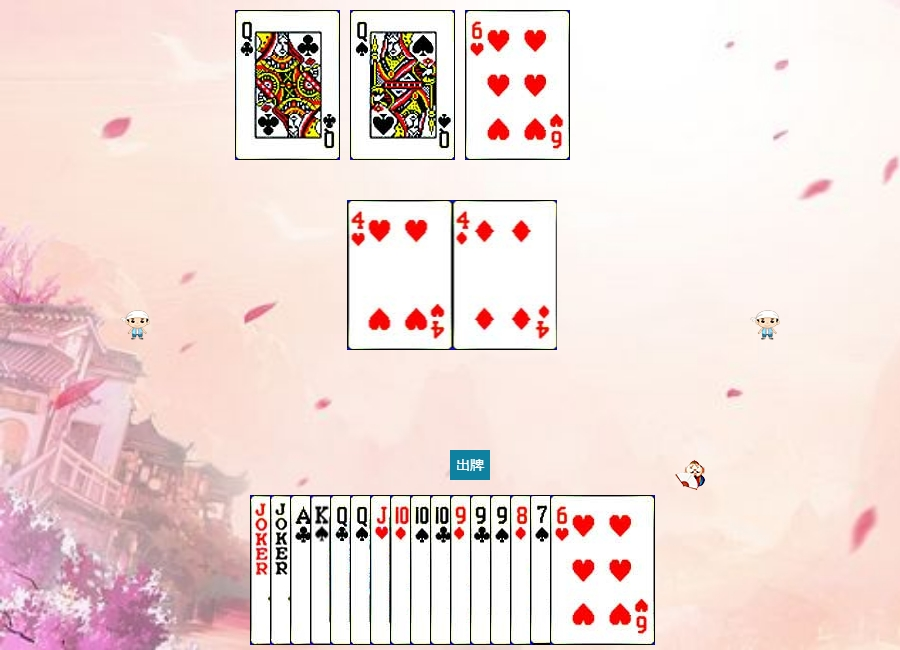10~1: (390, 495, 495, 645)
10~2: (430, 495, 535, 645)
10~4: (410, 495, 515, 645)
11~3: (370, 495, 475, 645)
12~2: (235, 10, 340, 160), (330, 495, 435, 645)
12~4: (350, 10, 455, 160), (350, 495, 455, 645)
13~4: (310, 495, 415, 645)
14~2: (290, 495, 395, 645)
17~3: (270, 495, 375, 645)
18~4: (250, 495, 355, 645)
4~1: (453, 200, 558, 350)
4~3: (348, 200, 453, 350)
6~3: (465, 10, 570, 160), (550, 495, 655, 645)
7~4: (530, 495, 635, 645)
8~1: (510, 495, 615, 645)
9~1: (450, 495, 555, 645)
9~2: (470, 495, 575, 645)
9~4: (490, 495, 595, 645)
